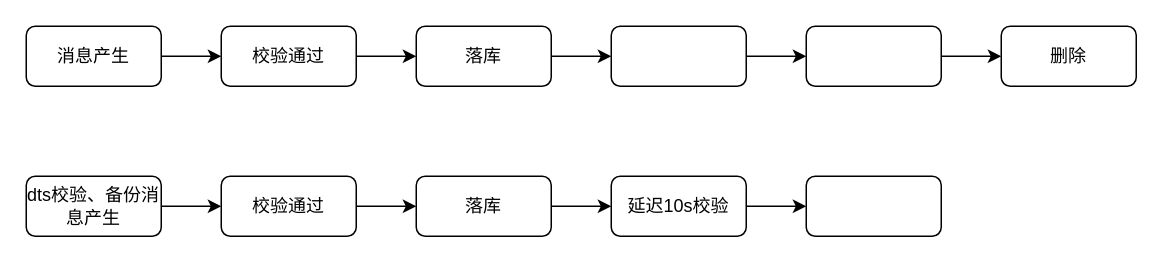
Some shapes in this 1163 by 263 pixel diagram are drawn without their labels. The centre of each missing label's shape, as x and y in pixels:
"入mq成功" belongs at point 873,55.
"延迟发送" belongs at point 678,55.
"校验成功或失败" belongs at point 873,205.
